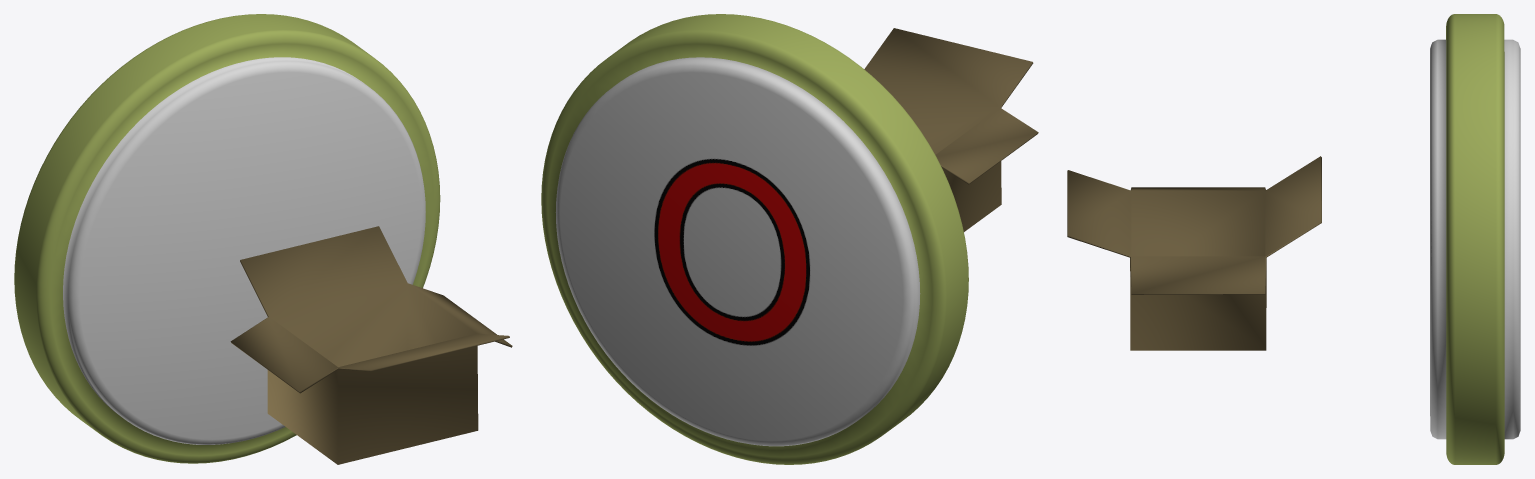
3 renders of one model, left to right at view 1: azimuth 30°, elevation 25°; view 2: azimuth 150°, elevation 25°; view 3: azimuth 270°, elevation 25°, orthographic. The views are drawn at different scales.
Parts seen in each view (by area): view 1: coin, Plane; view 2: coin, Plane; view 3: coin, Plane.
Boxes of the visible parts, box(x1,y1,x2,y2) form: coin: box(14, 14, 440, 463); Plane: box(230, 226, 512, 464); coin: box(541, 14, 968, 464); Plane: box(864, 28, 1038, 231); coin: box(1430, 14, 1520, 464); Plane: box(1067, 156, 1321, 350).
Size of the model in its own units: 2.56 by 2.56 by 2.57.
5 materials, 1 textured.
